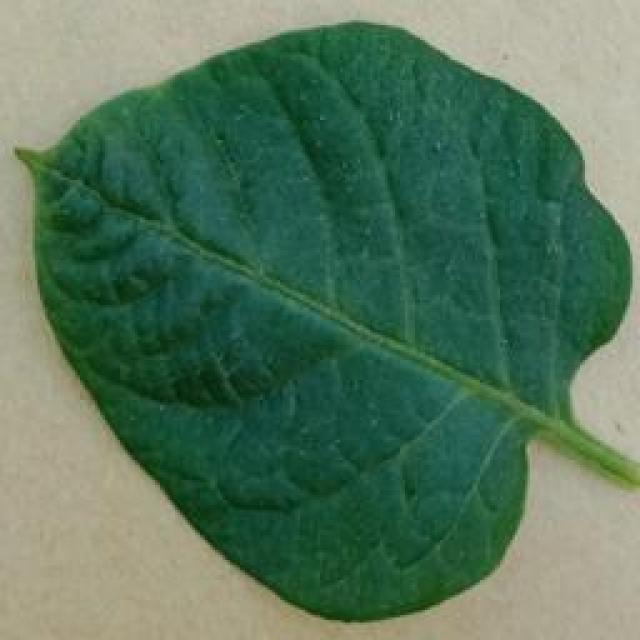Potato_Healthy: (14, 21, 628, 622)
